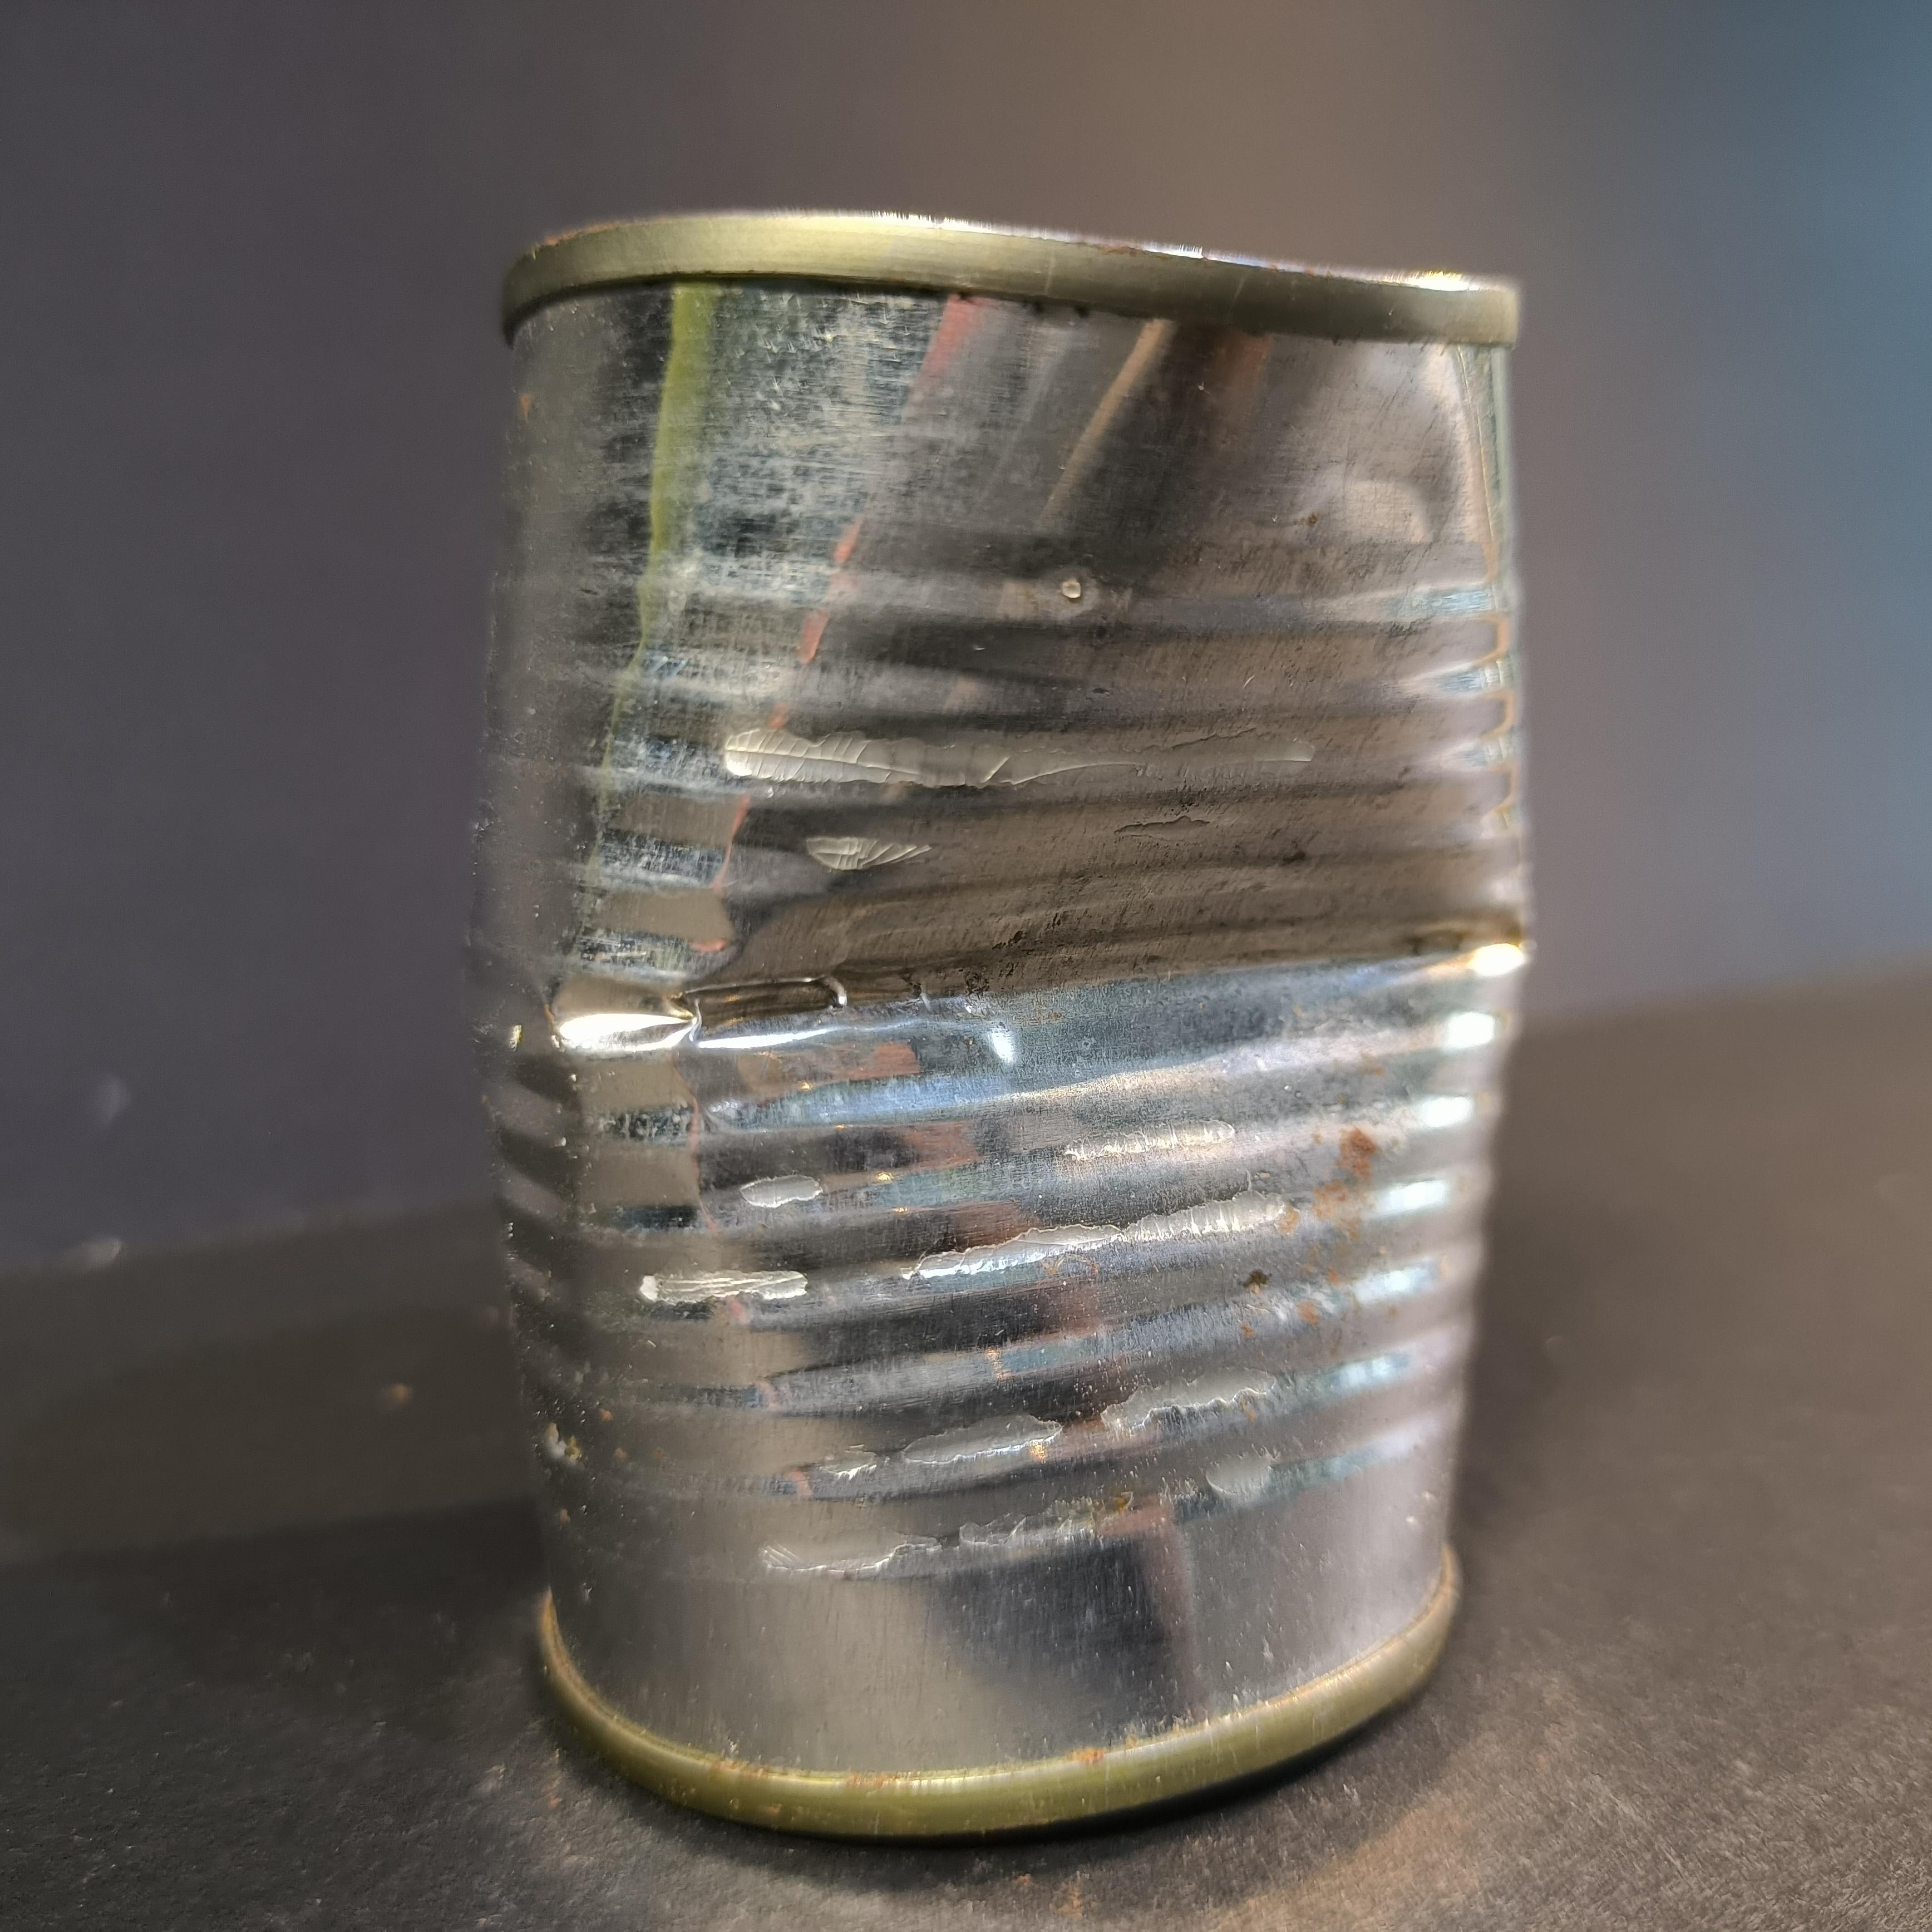Dented: (418, 147, 1589, 1851)
